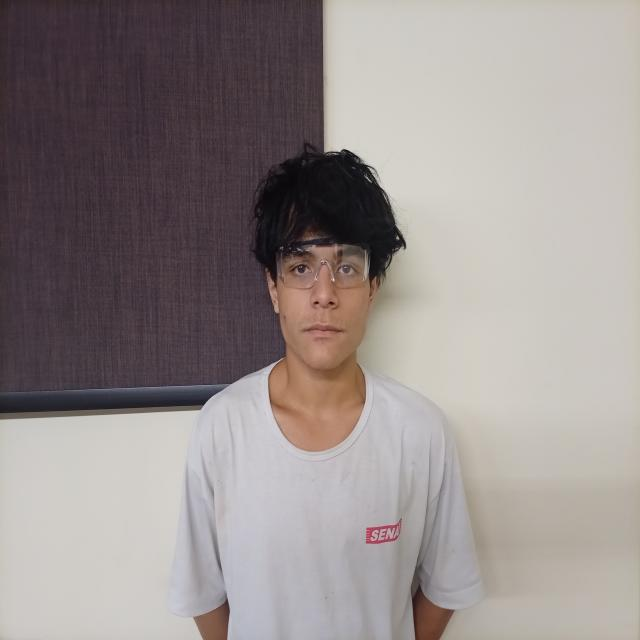oculos-epi: (276, 239, 370, 291)
